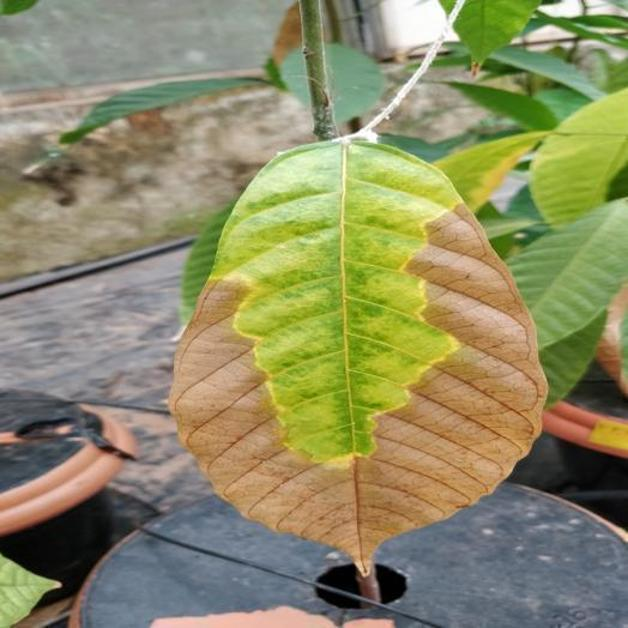Potassium: (169, 138, 546, 573)
